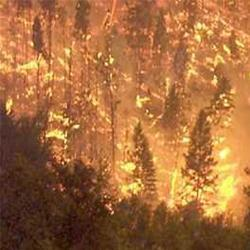fire: (213, 161, 242, 218), (116, 162, 144, 199), (159, 167, 187, 203), (44, 108, 68, 139)
